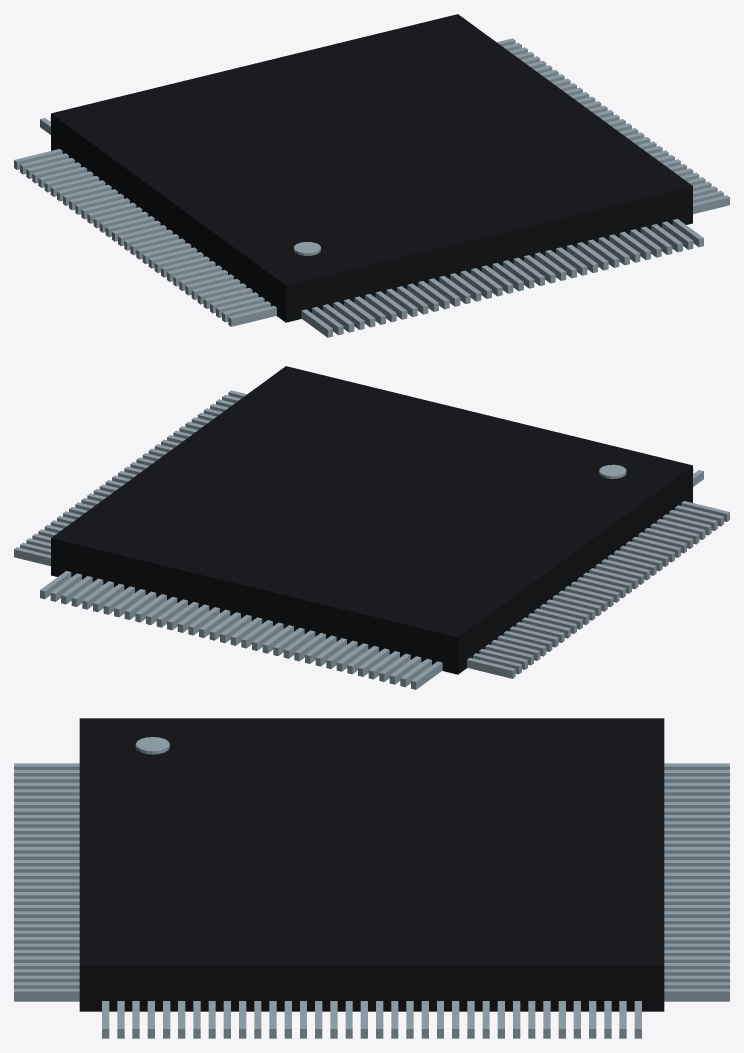
The picture shows the model from 3 angles, top to bottom: view 1: azimuth 30°, elevation 25°; view 2: azimuth 150°, elevation 25°; view 3: azimuth 270°, elevation 25°; orthographic projection. The views are drawn at different scales.
Parts seen in each view (by area): view 1: Molded_144Pin_QFP_Body, Lead_144; view 2: Molded_144Pin_QFP_Body, Lead_109; view 3: Molded_144Pin_QFP_Body, Lead_036, Lead_072, Lead_004, Lead_011, Lead_018, Lead_034, Lead_040, Lead_047, Lead_054, Lead_070.
Boxes of the visible parts, x1=… form: Molded_144Pin_QFP_Body: x1=51, y1=14, x2=692, y2=322; Lead_144: x1=228, y1=305, x2=276, y2=326; Molded_144Pin_QFP_Body: x1=51, y1=366, x2=692, y2=674; Lead_109: x1=467, y1=657, x2=515, y2=678; Molded_144Pin_QFP_Body: x1=79, y1=718, x2=664, y2=1011; Lead_036: x1=14, y1=988, x2=79, y2=1001; Lead_072: x1=664, y1=988, x2=729, y2=1001; Lead_004: x1=14, y1=782, x2=79, y2=789; Lead_011: x1=14, y1=827, x2=79, y2=834; Lead_018: x1=14, y1=872, x2=79, y2=879; Lead_034: x1=14, y1=975, x2=79, y2=982; Lead_040: x1=664, y1=782, x2=729, y2=789; Lead_047: x1=664, y1=827, x2=729, y2=834; Lead_054: x1=664, y1=872, x2=729, y2=879; Lead_070: x1=664, y1=975, x2=729, y2=982.
Size of the model in its own units: 2.94 by 0.2325 by 2.94.
